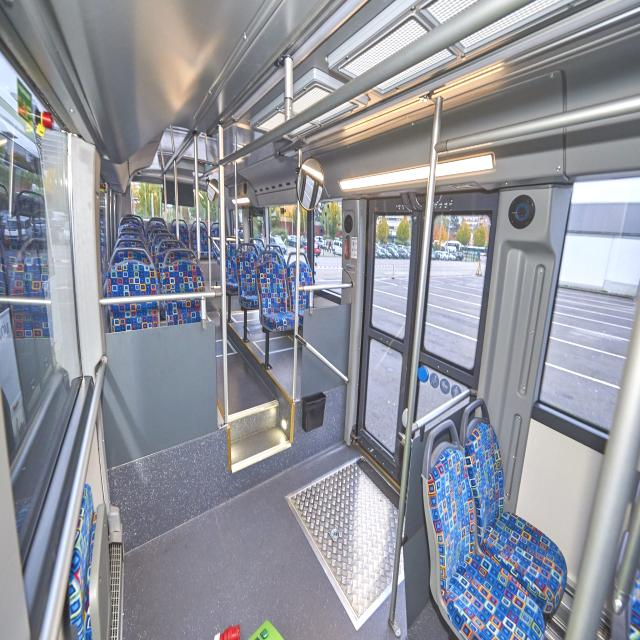asiento-libre: (422, 420, 545, 640), (459, 398, 568, 625), (68, 482, 110, 640), (104, 250, 160, 332), (160, 250, 207, 326), (256, 244, 296, 332), (256, 254, 296, 336), (286, 252, 315, 329), (236, 243, 262, 311), (114, 238, 155, 272), (224, 237, 242, 296), (158, 240, 193, 267), (153, 232, 184, 255), (117, 230, 149, 252), (150, 225, 178, 245), (171, 219, 189, 250), (194, 220, 208, 258), (120, 222, 146, 241), (149, 217, 170, 236), (120, 214, 142, 232), (209, 222, 220, 255)
